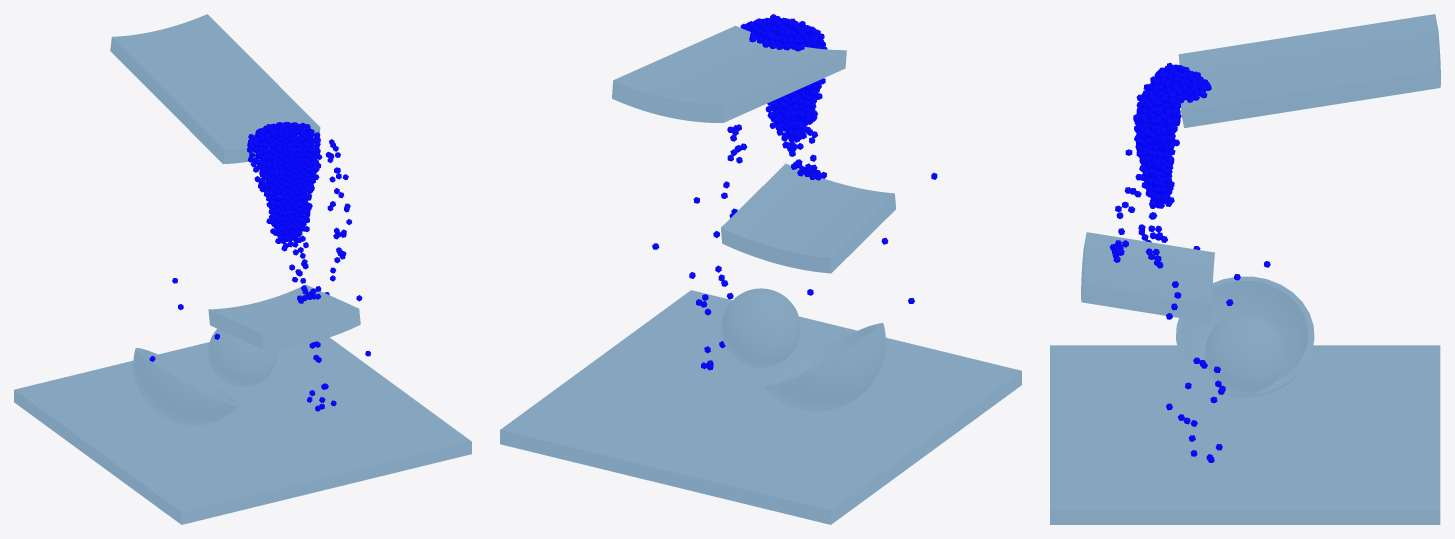
3 views of the same model, side by side, from view 1: azimuth 30°, elevation 25°; view 2: azimuth 150°, elevation 25°; view 3: azimuth 270°, elevation 25° (orthographic). The views are drawn at different scales.
Size of the model in its own units: 12 by 13.58 by 12.02.
